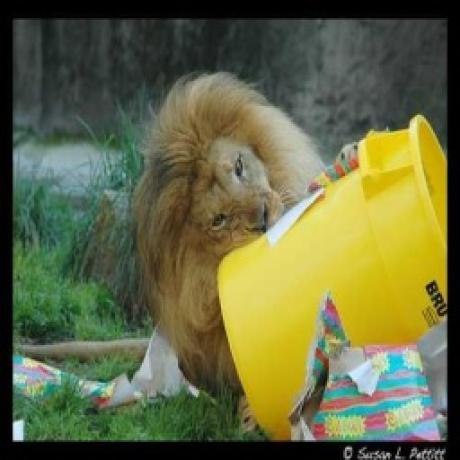Lion: (132, 70, 318, 397)
